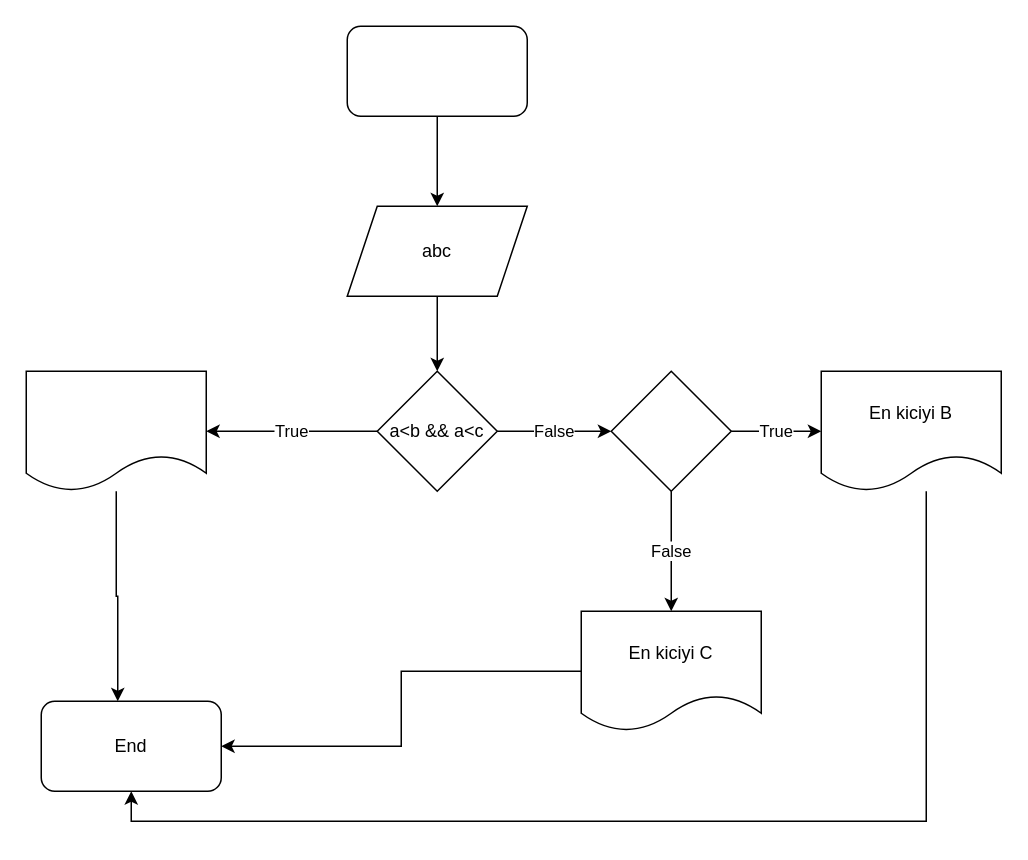
The diagram is 1028 pixels wide and 860 high, and some of its shapes have lost their labels. Here are the shapes that lost their labels. From the top down, the box of each, then its label:
(346, 25, 527, 116): Start
(25, 370, 206, 491): En kiciyi A
(610, 370, 731, 491): b<a %% b<c
